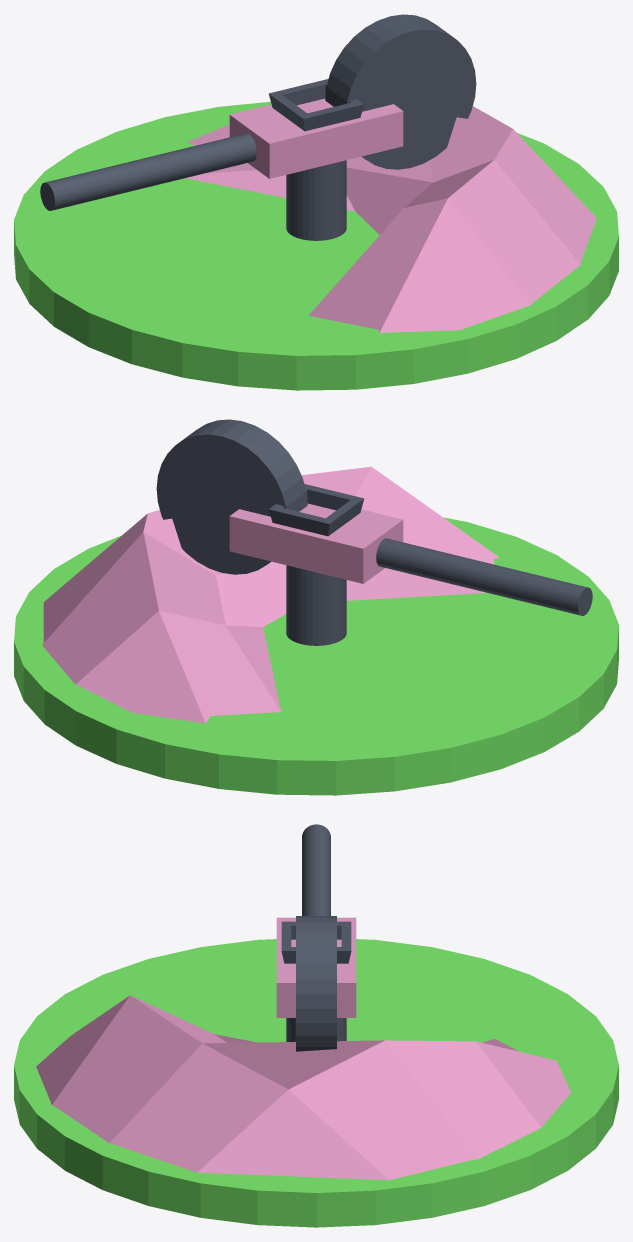
Rendered from turret1.fbx.
3 renders of one model, top to bottom at view 1: azimuth 30°, elevation 25°; view 2: azimuth 150°, elevation 25°; view 3: azimuth 270°, elevation 25°, orthographic.
Parts seen in each view (by area): view 1: turret1base, turret1head; view 2: turret1base, turret1head; view 3: turret1base, turret1head.
Boxes of the visible parts, x1,y1,x2,y2 form: turret1base: (14,101,618,390); turret1head: (40,14,476,210); turret1base: (14,466,618,795); turret1head: (156,419,592,615); turret1base: (14,939,618,1227); turret1head: (276,824,356,1051).
Bounding box in the file's own units: 202 × 79.47 × 200.
